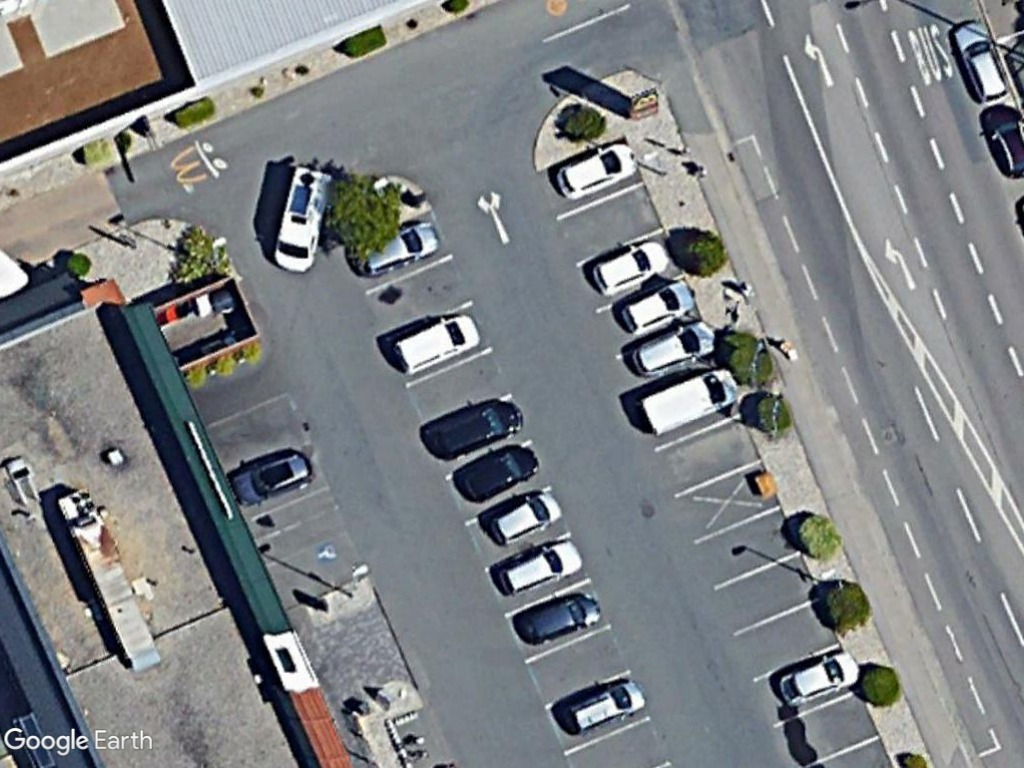car: (417, 391, 524, 462), (450, 433, 542, 511), (584, 227, 674, 300), (946, 13, 1013, 108), (771, 643, 867, 709), (626, 315, 720, 381), (552, 137, 641, 205), (224, 443, 314, 509), (511, 586, 604, 649), (480, 483, 566, 548), (493, 538, 585, 598), (558, 677, 651, 735), (614, 274, 699, 337)
van: (268, 154, 337, 281), (633, 362, 744, 440), (387, 306, 484, 379)
